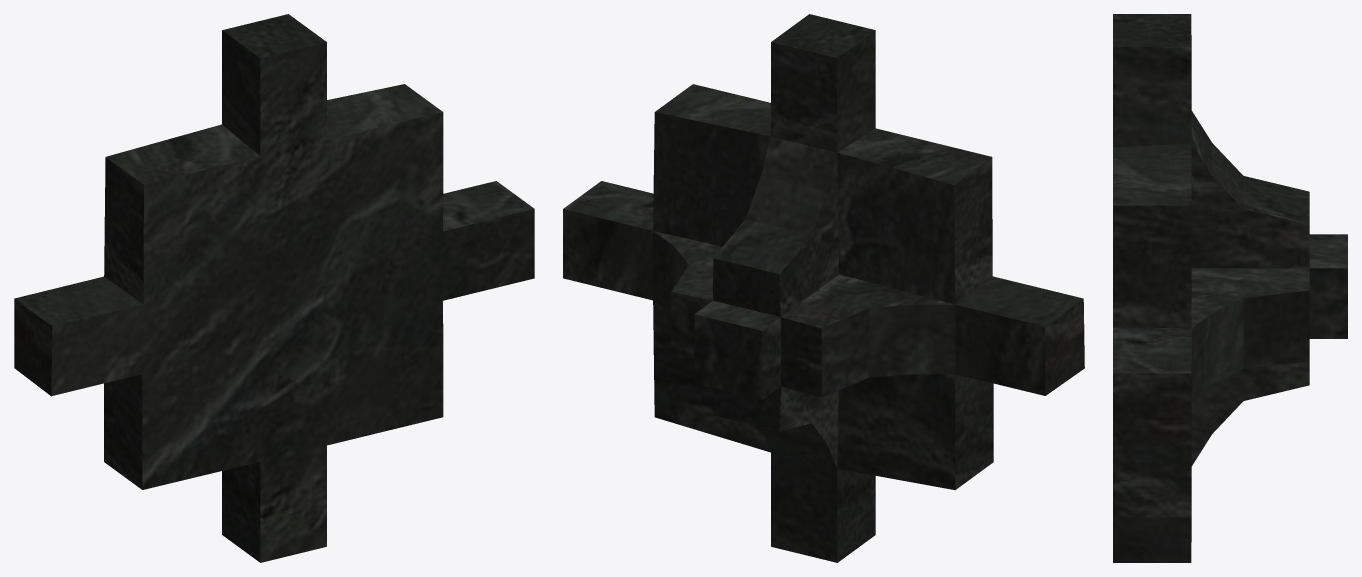
File: pedestal_base.obj
3 renders of one model, left to right at view 1: azimuth 30°, elevation 25°; view 2: azimuth 150°, elevation 25°; view 3: azimuth 270°, elevation 25°, orthographic. The views are drawn at different scales.
Visible parts, largest first — view 1: Plane; view 2: Plane; view 3: Plane.
Boxes of the visible parts, x1,y1,x2,y2 form: Plane: (14, 14, 534, 562); Plane: (563, 14, 1084, 562); Plane: (1113, 14, 1347, 562).
Size of the model in its own units: 0.9103 by 0.9081 by 0.3746.
